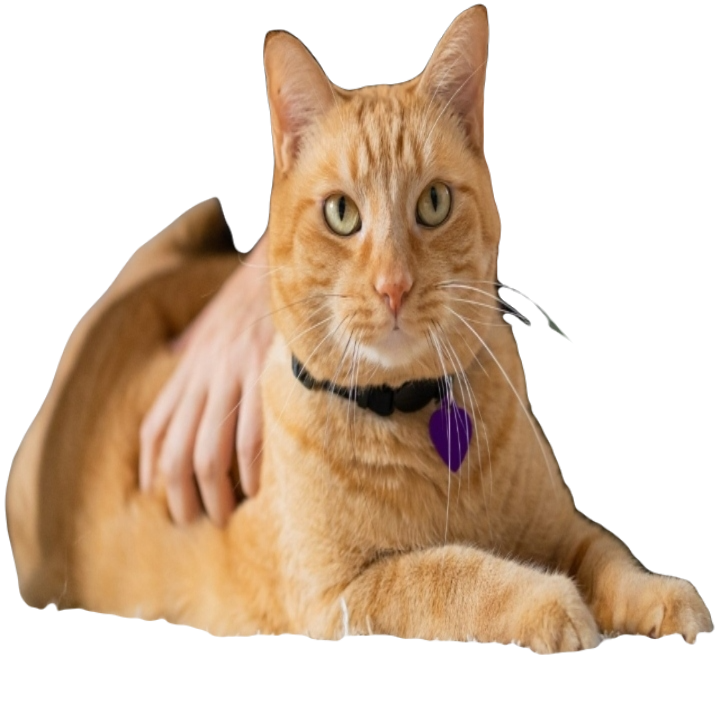Cat: (5, 5, 710, 653)
